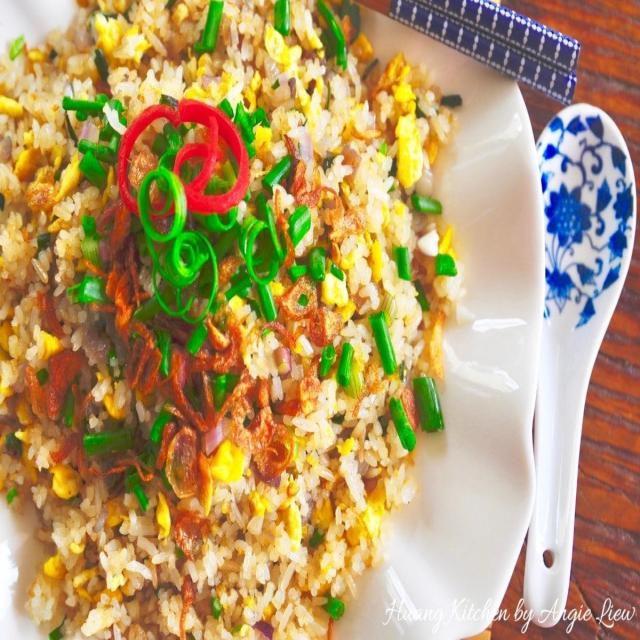Nasi Goreng: (1, 0, 461, 638)
